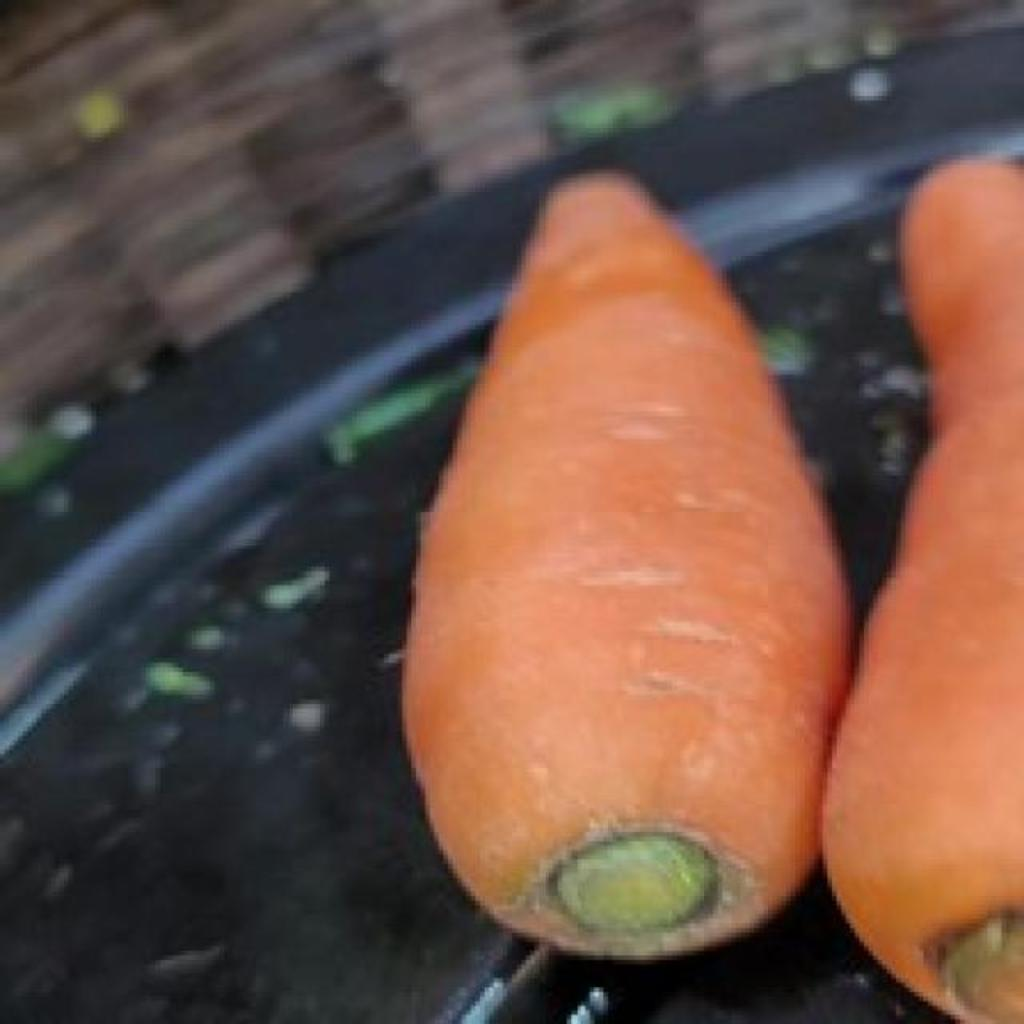carrot: (404, 176, 850, 957), (824, 162, 1024, 1023)
